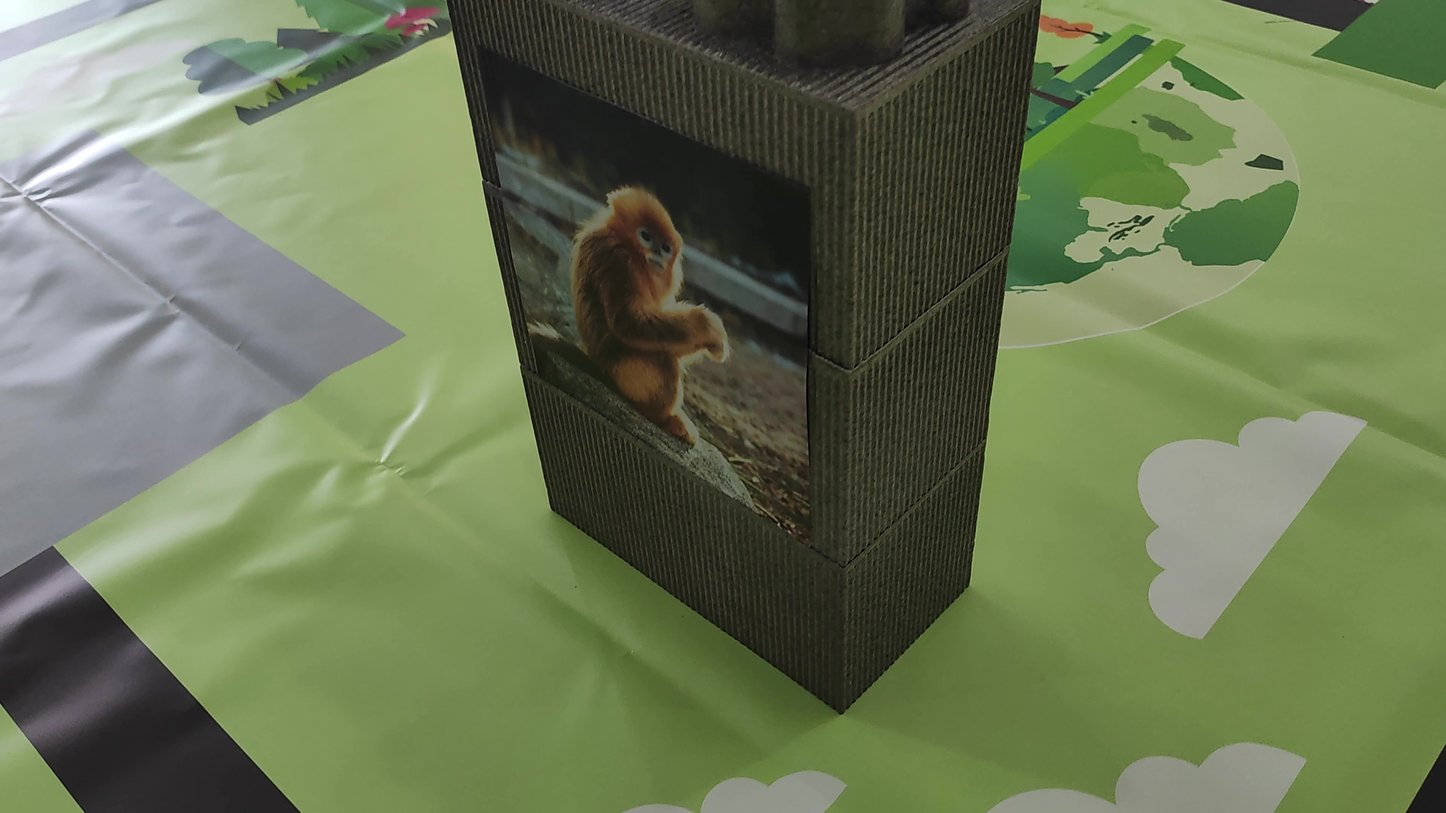monkey: (521, 150, 764, 470)
